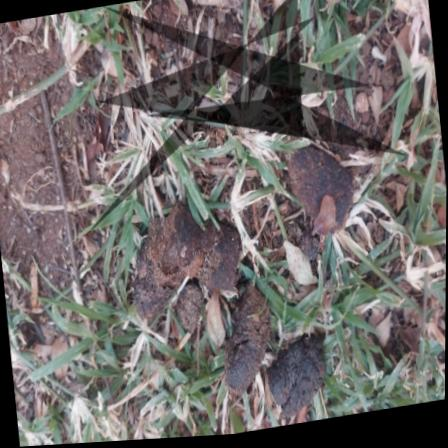dog-poop: (115, 203, 242, 338), (217, 290, 342, 423), (287, 134, 369, 254)
